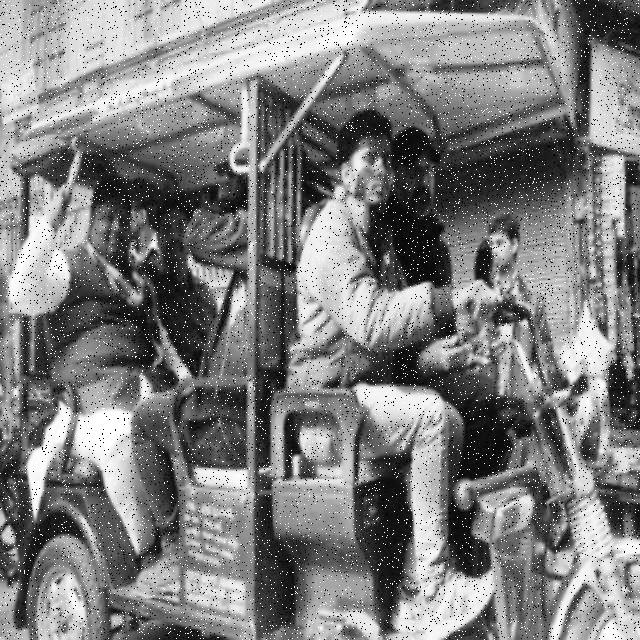Toto: (15, 9, 640, 640)
